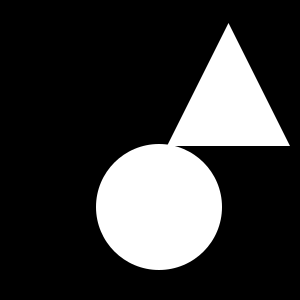rectangle: (96, 144, 222, 270)
triangle: (167, 23, 290, 146)
